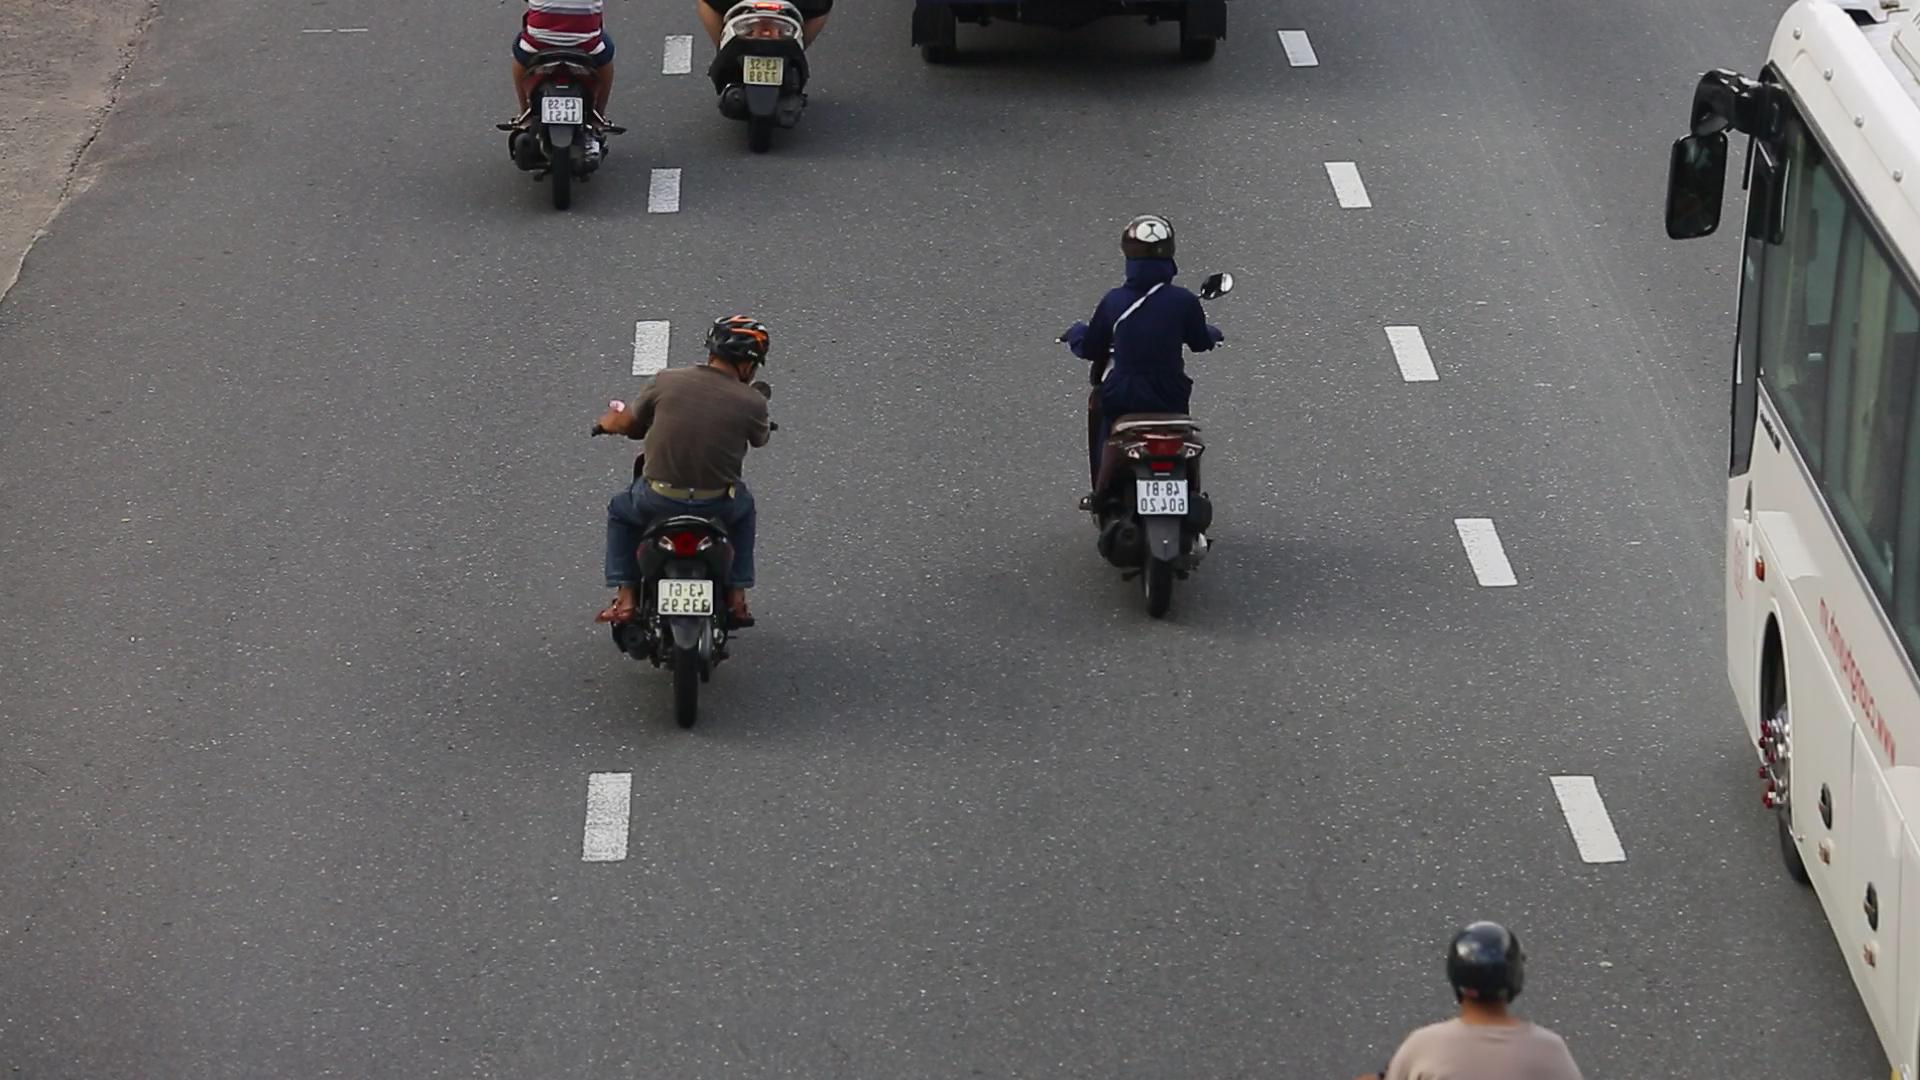motobike: (576, 297, 804, 752), (1044, 194, 1257, 640)
